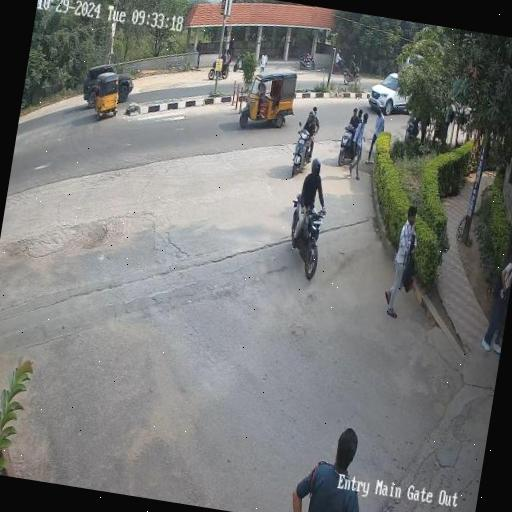helmet: (300, 154, 330, 195), (297, 106, 319, 126)
no helmet: (346, 98, 364, 126)
